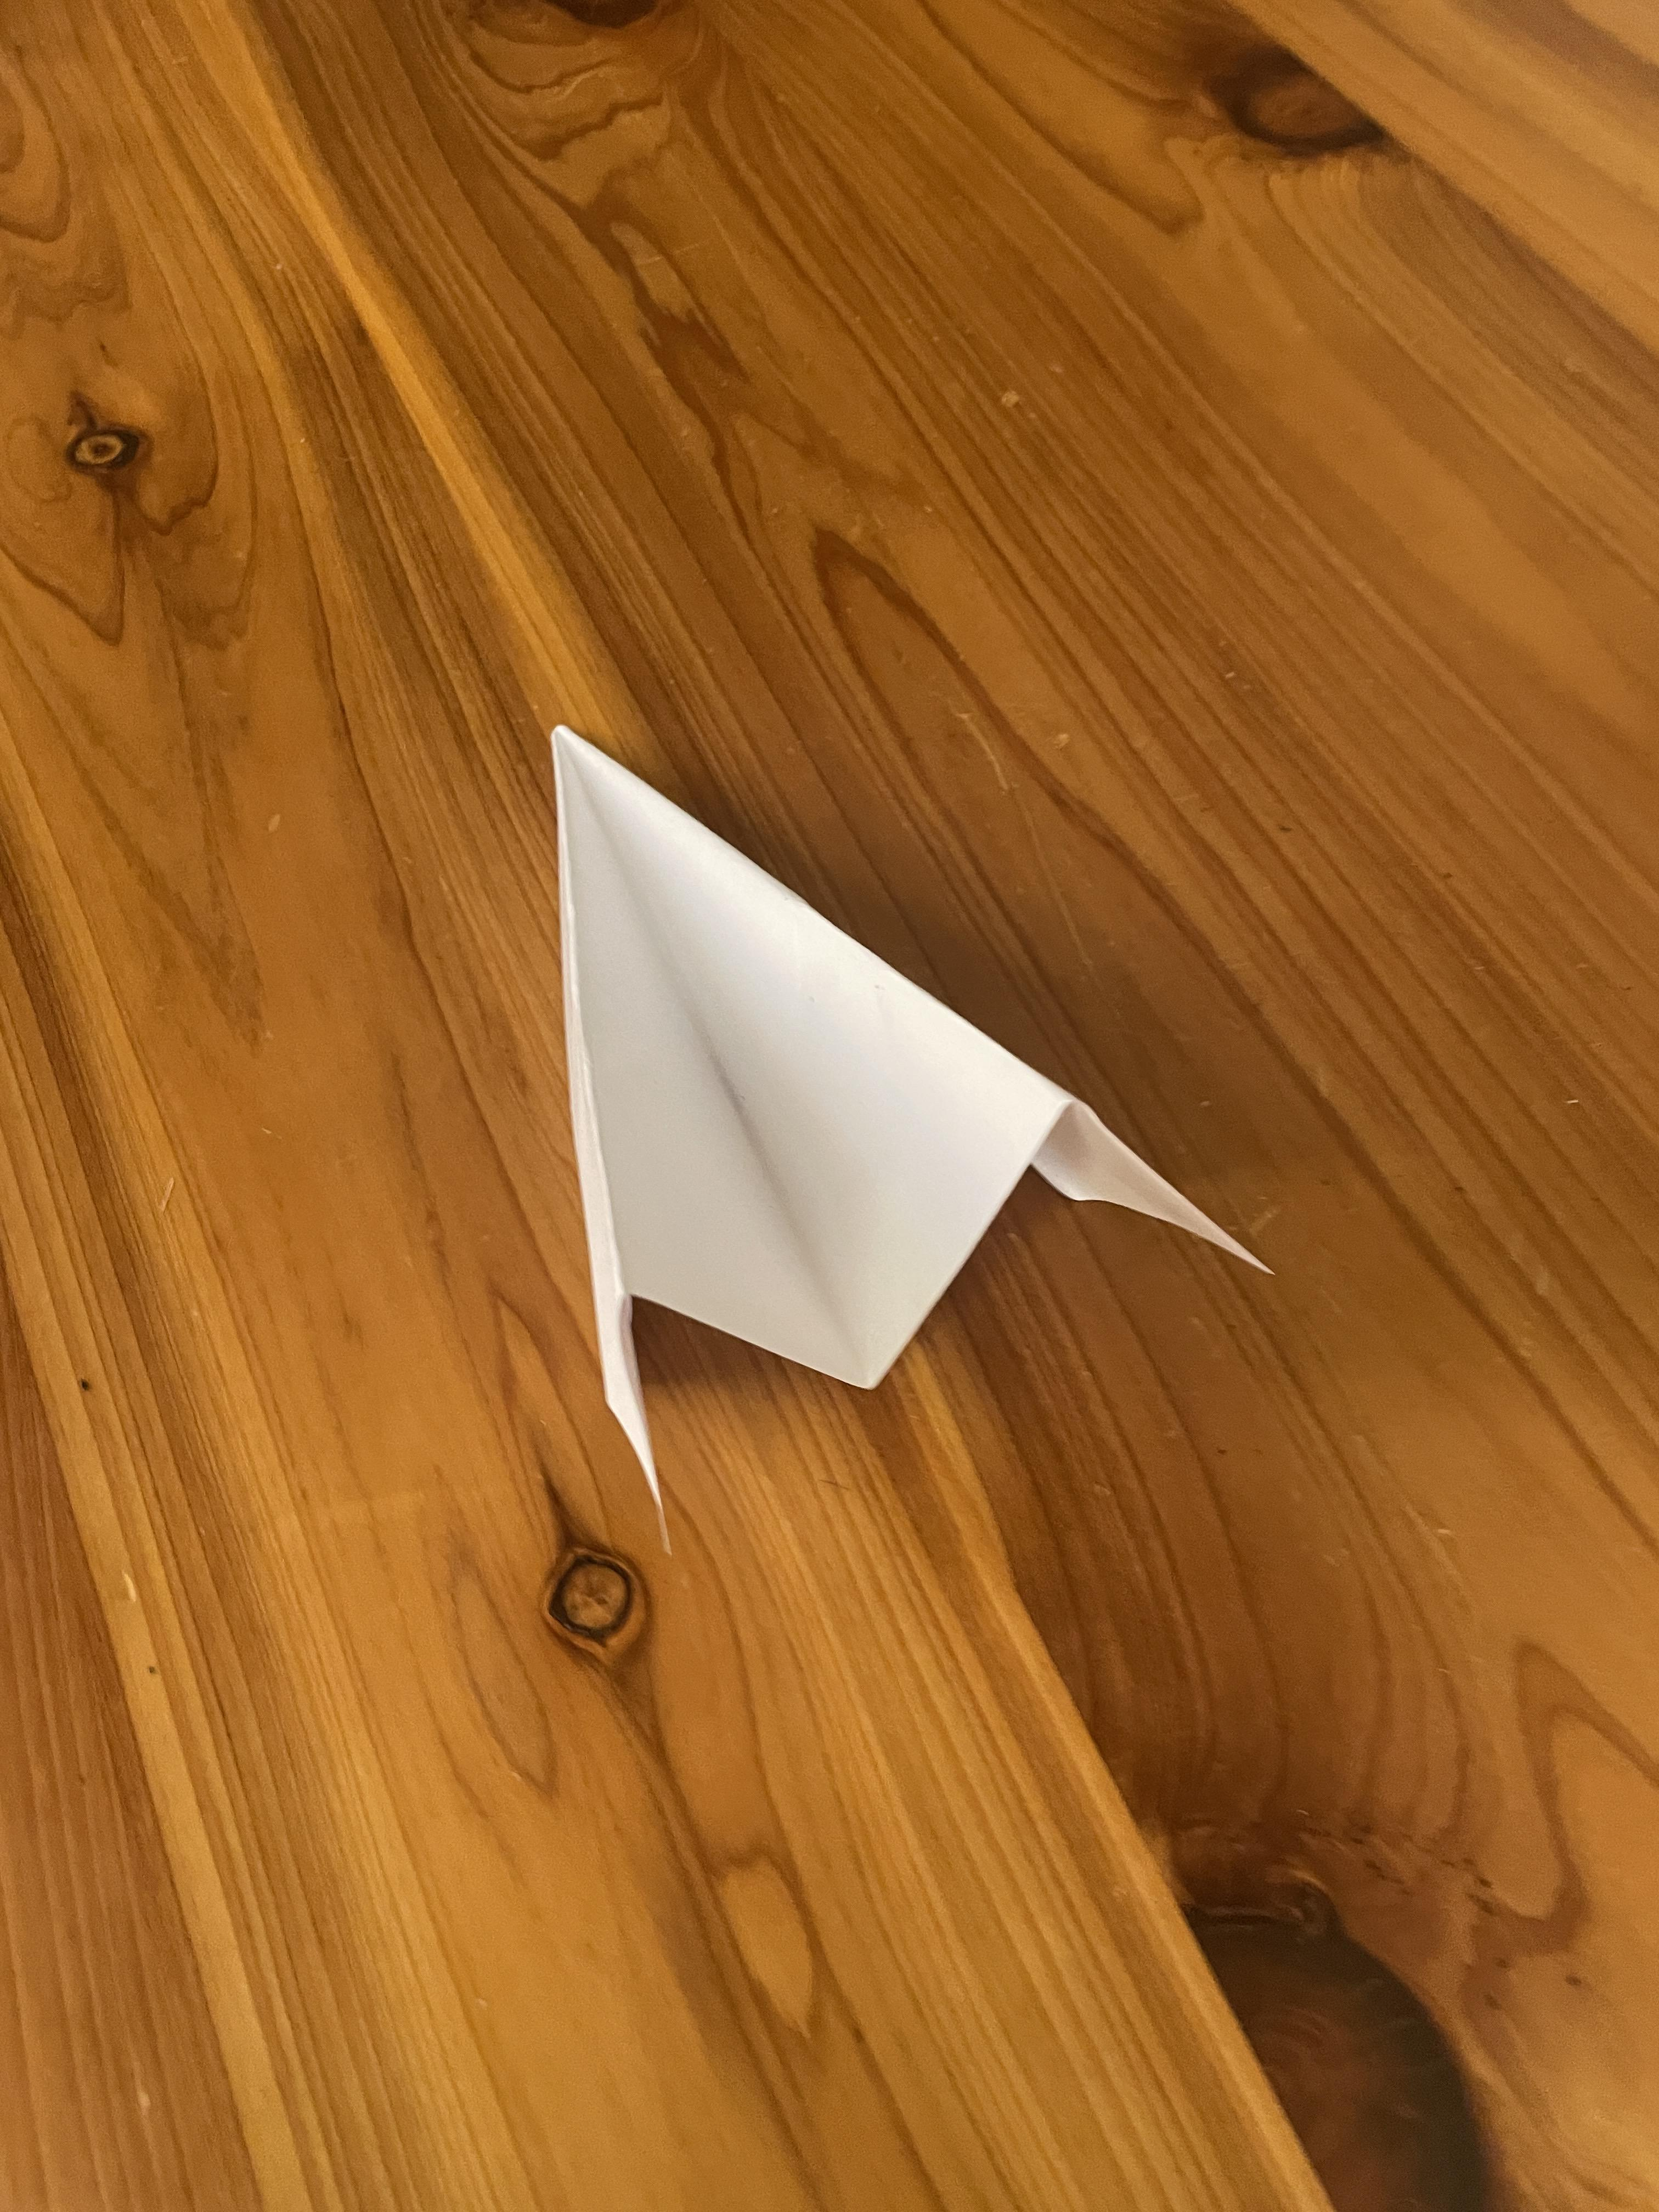shape_3: (390, 604, 1328, 1578)
